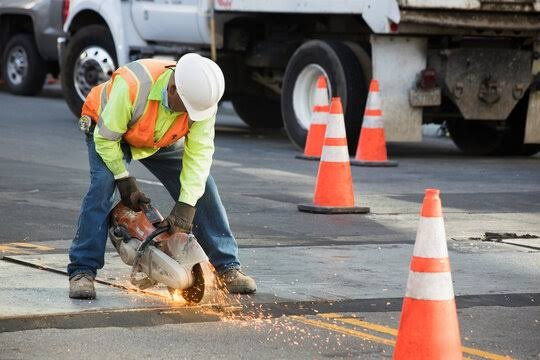hardhat: (169, 49, 233, 125)
person: (61, 41, 230, 316)
safety_cone: (392, 182, 472, 355), (299, 95, 369, 211), (296, 68, 338, 165), (356, 73, 395, 171)
safety_vest: (81, 57, 178, 162)
